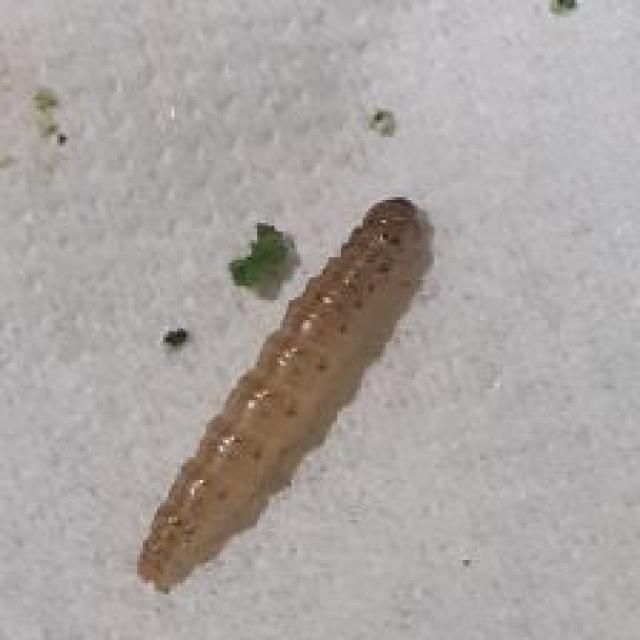white mucus: (125, 167, 464, 591)
